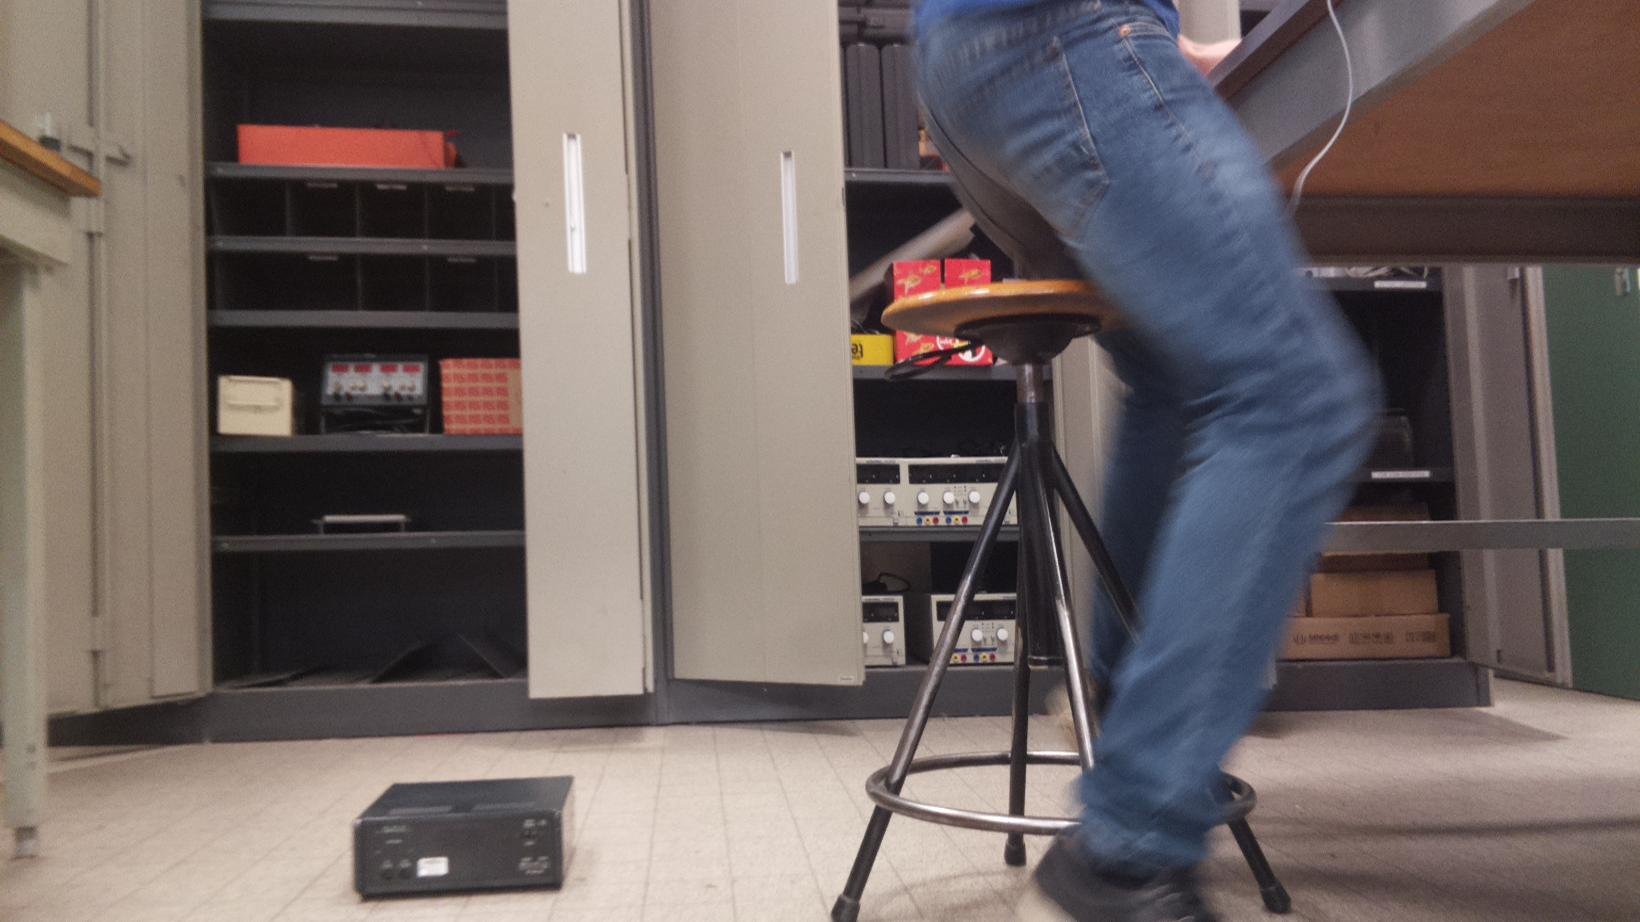medium: (341, 770, 582, 906)
